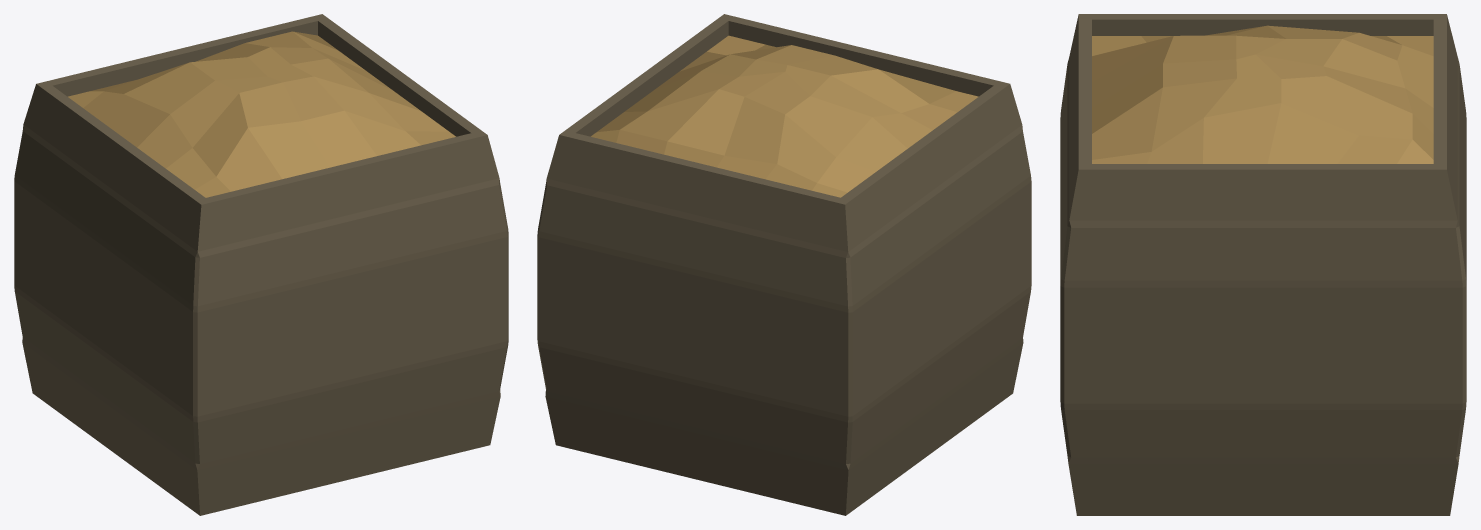
Rendered from SANDBOX2.fbx.
The picture shows the model from 3 angles, left to right: view 1: azimuth 30°, elevation 25°; view 2: azimuth 150°, elevation 25°; view 3: azimuth 270°, elevation 25°; orthographic projection. The views are drawn at different scales.
Parts seen in each view (by area): view 1: sand; view 2: sand; view 3: sand.
Boxes of the visible parts, bbox=[...] form: sand: bbox=[14, 14, 508, 515]; sand: bbox=[537, 14, 1031, 515]; sand: bbox=[1060, 14, 1466, 515].
Size of the model in its own units: 208 by 217 by 208.
